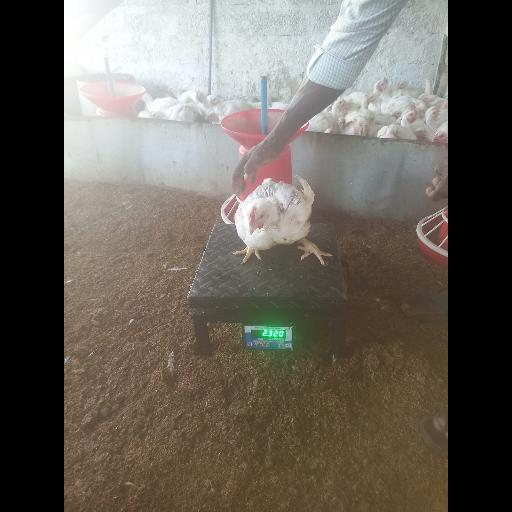chick: (235, 175, 332, 264)
